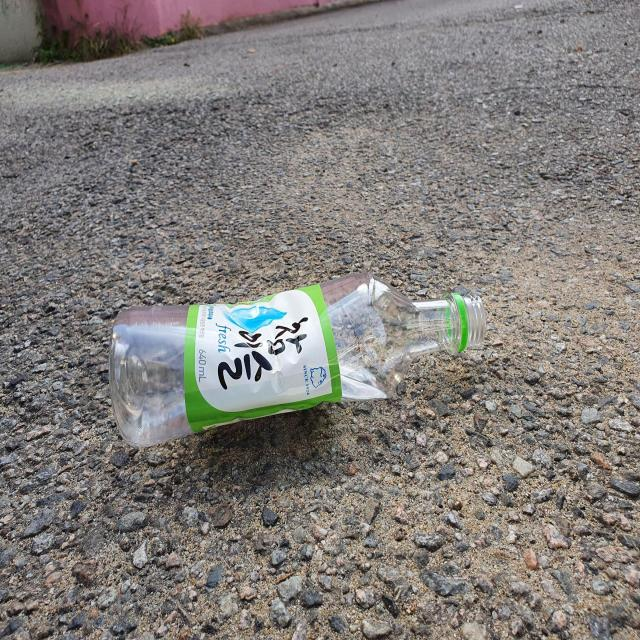plastic: (108, 273, 487, 448)
